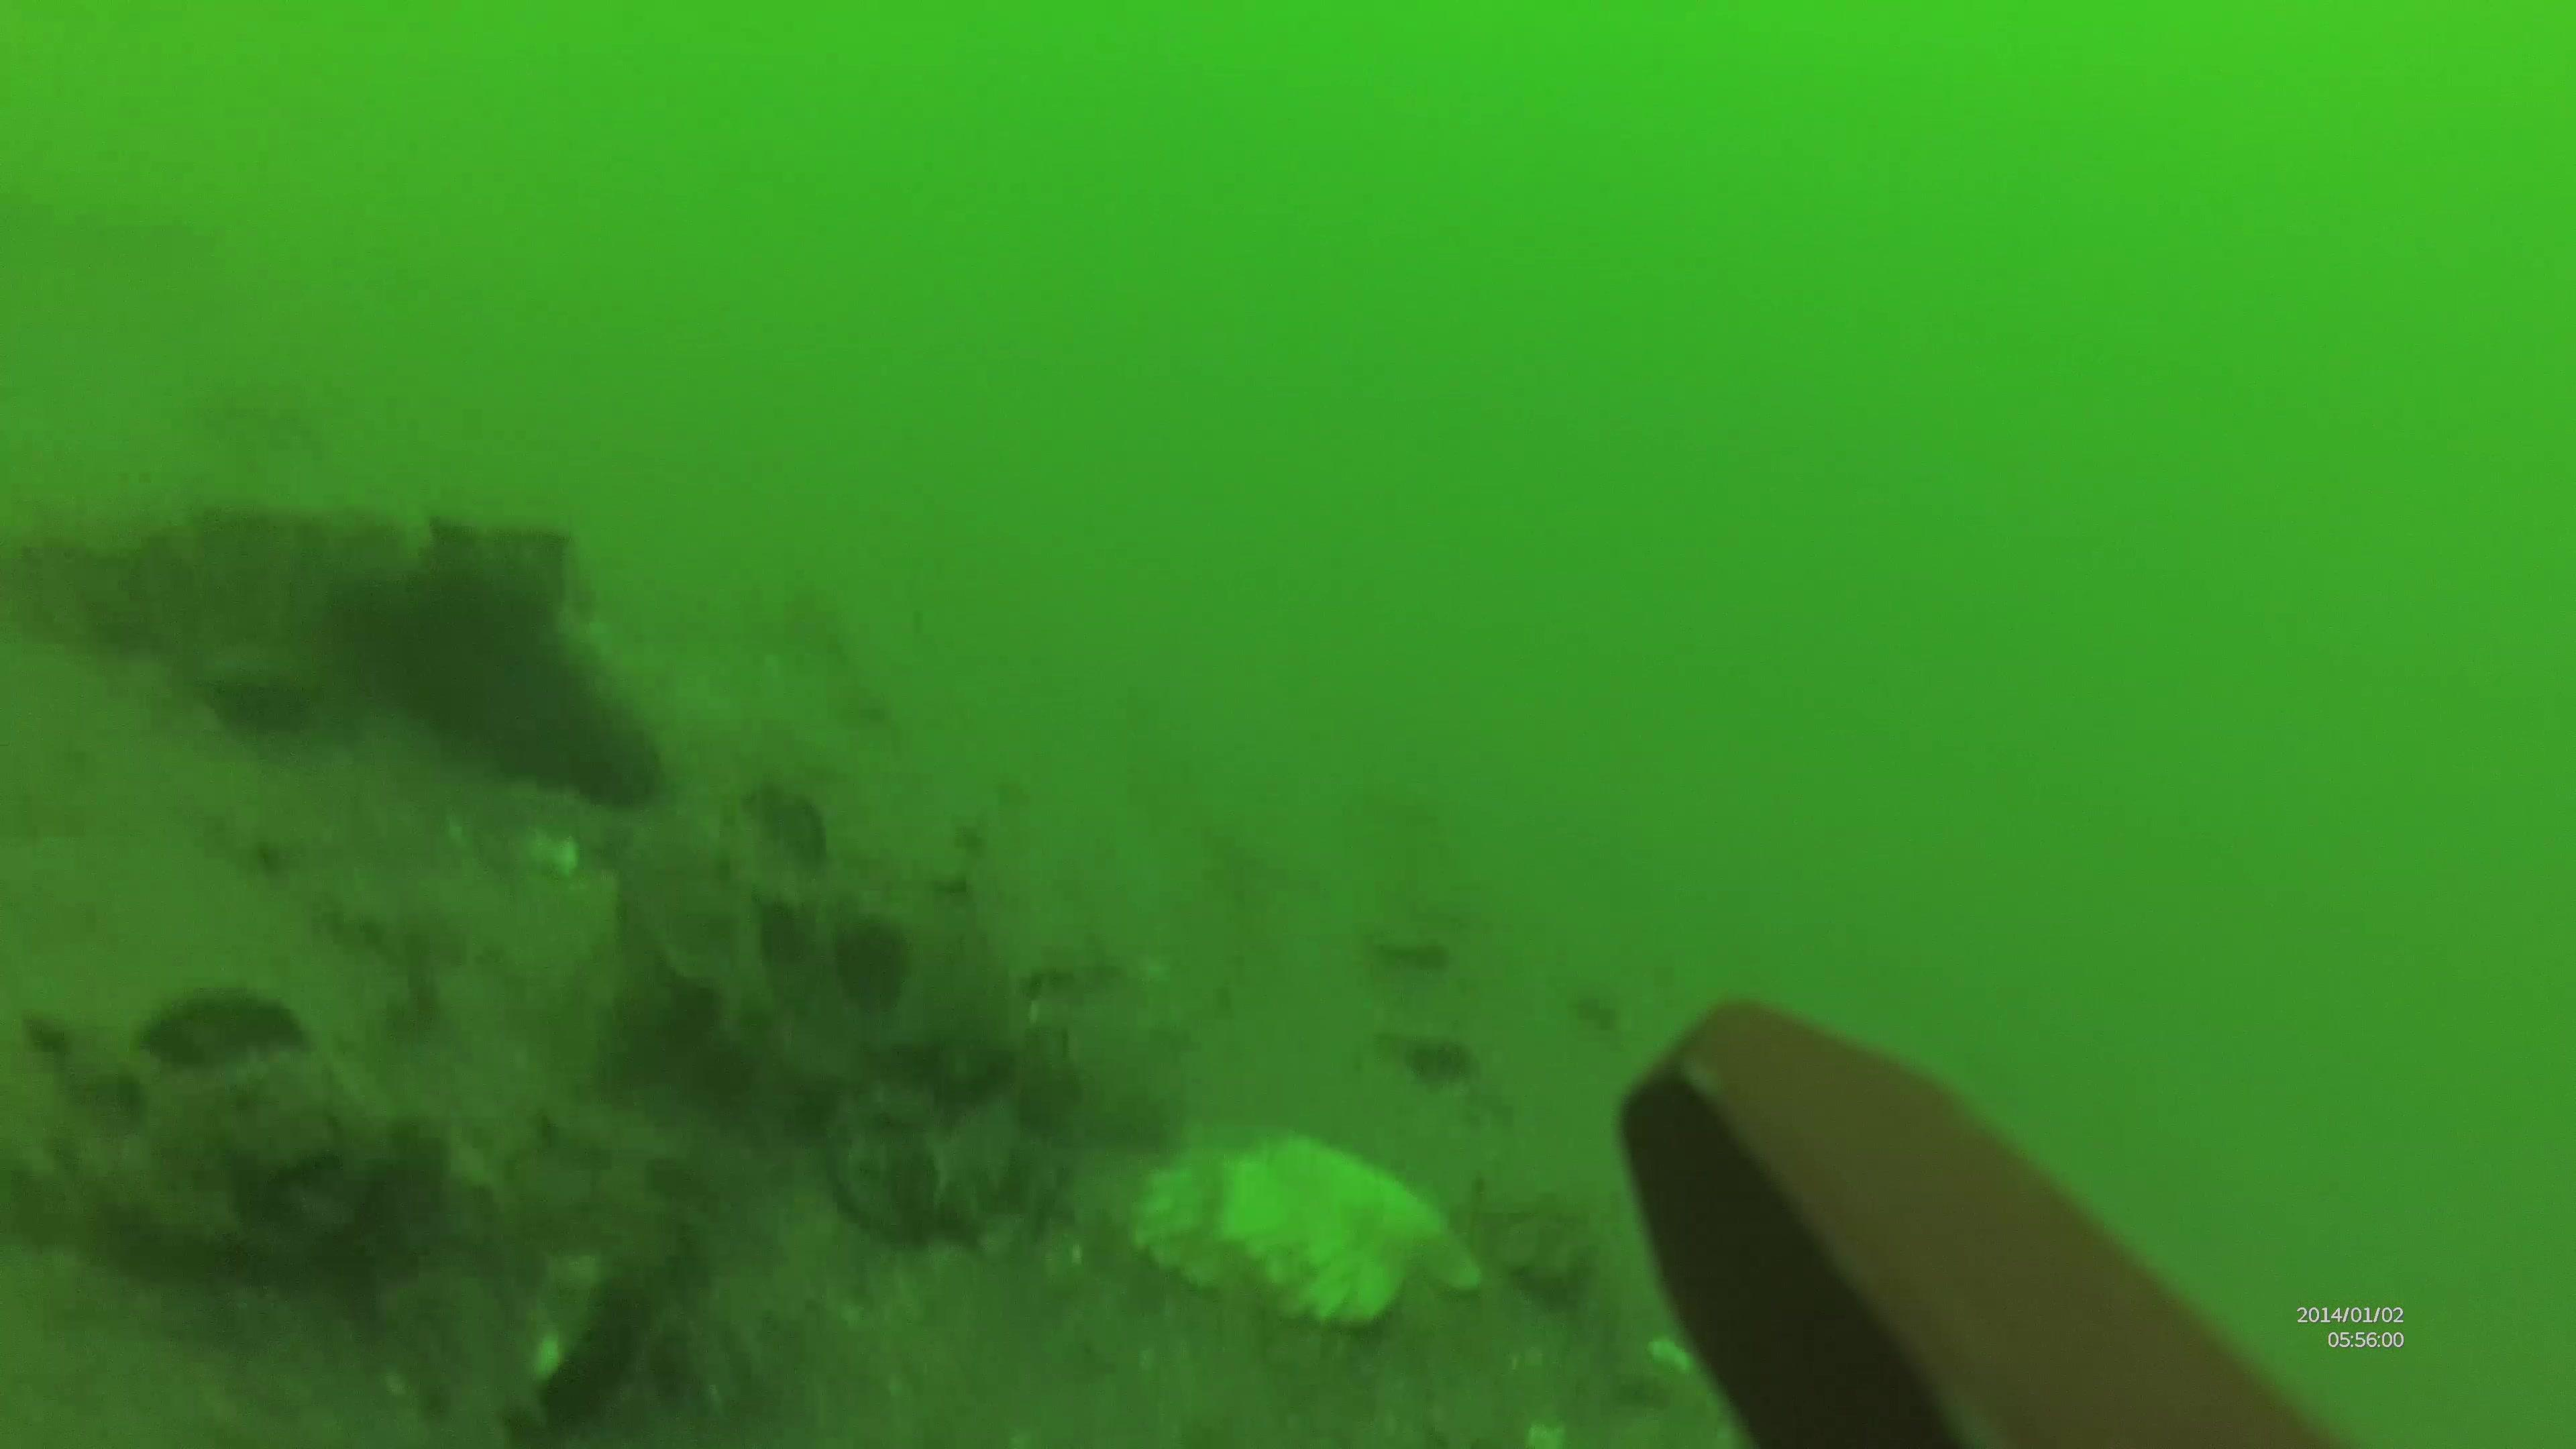scallop: (1131, 1108, 1477, 1320)
